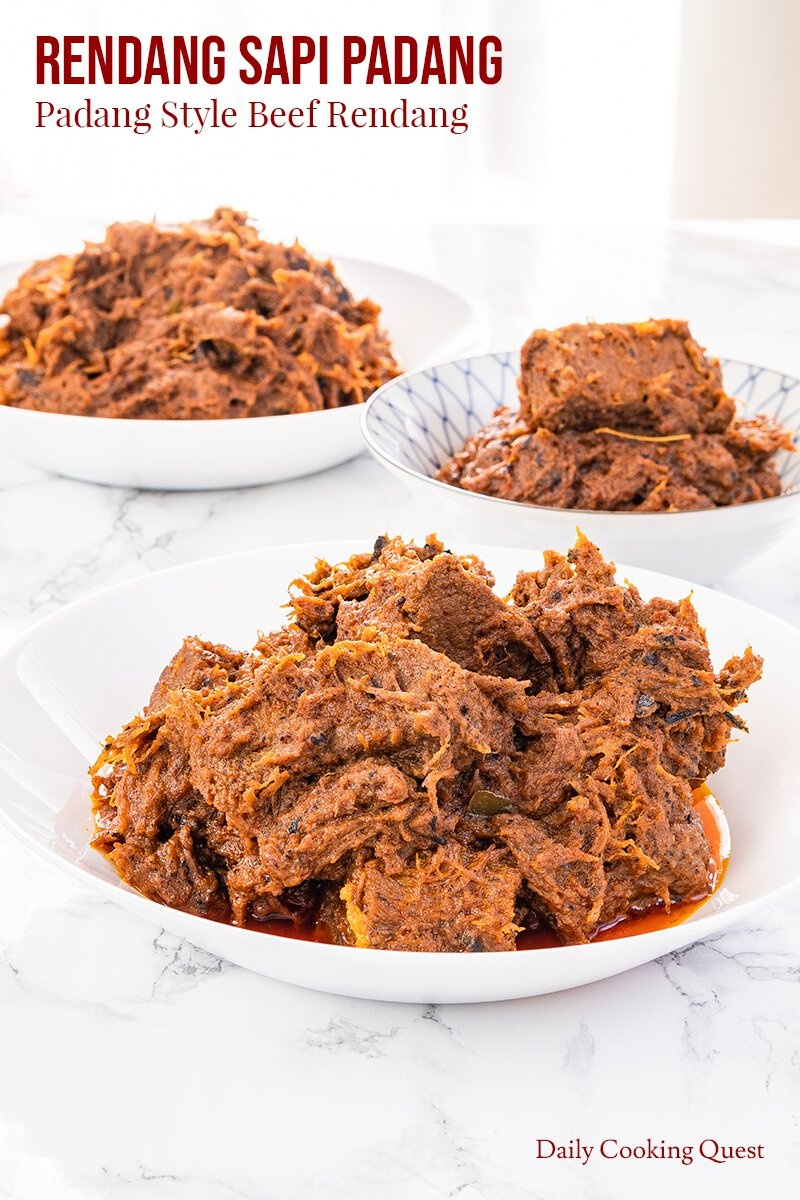rendang: (32, 539, 741, 957), (4, 204, 378, 415), (421, 292, 766, 517)
